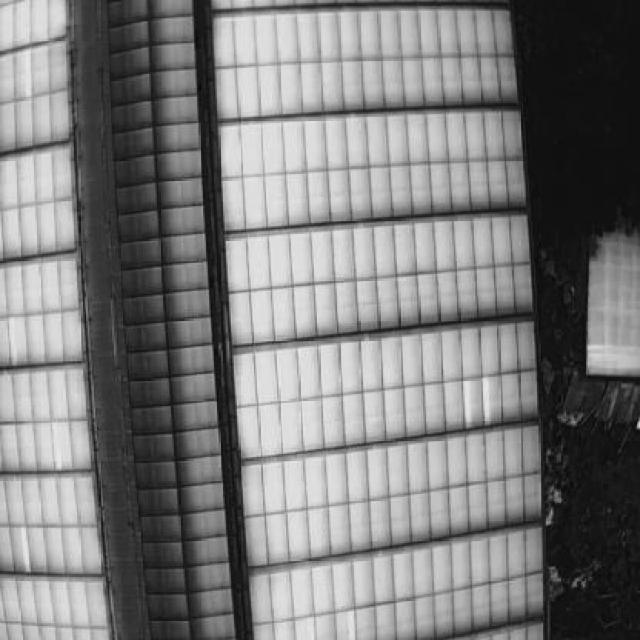diode: (51, 419, 63, 470), (7, 314, 18, 366), (20, 522, 29, 572), (23, 46, 31, 97), (462, 378, 470, 425), (481, 376, 488, 422)
